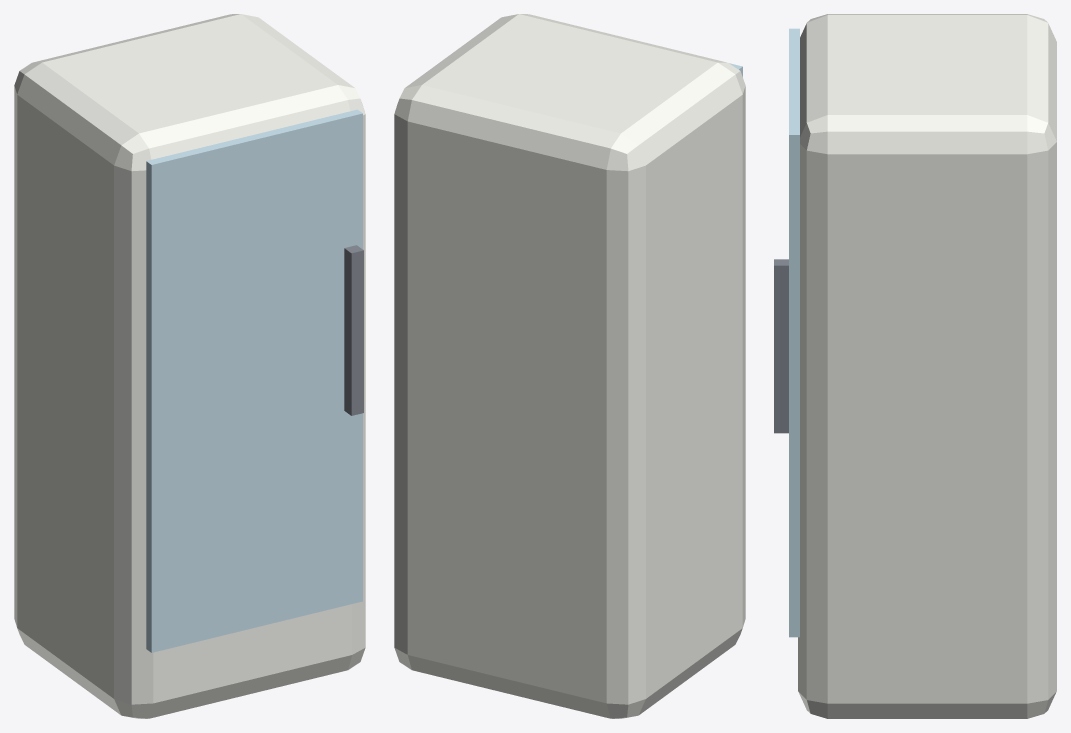
File: int_kulkas.fbx
The picture shows the model from 3 angles, left to right: view 1: azimuth 30°, elevation 25°; view 2: azimuth 150°, elevation 25°; view 3: azimuth 270°, elevation 25°; orthographic projection. The views are drawn at different scales.
Visible parts, largest first — view 1: int_kulkas; view 2: int_kulkas; view 3: int_kulkas.
Part boxes in pixels (x1,y1,x2,y2): int_kulkas: (14, 14, 365, 718); int_kulkas: (394, 14, 745, 718); int_kulkas: (774, 14, 1056, 718).
Size of the model in its own units: 80 by 180 by 76.5.
Materials: 1 (1 with a texture image).
